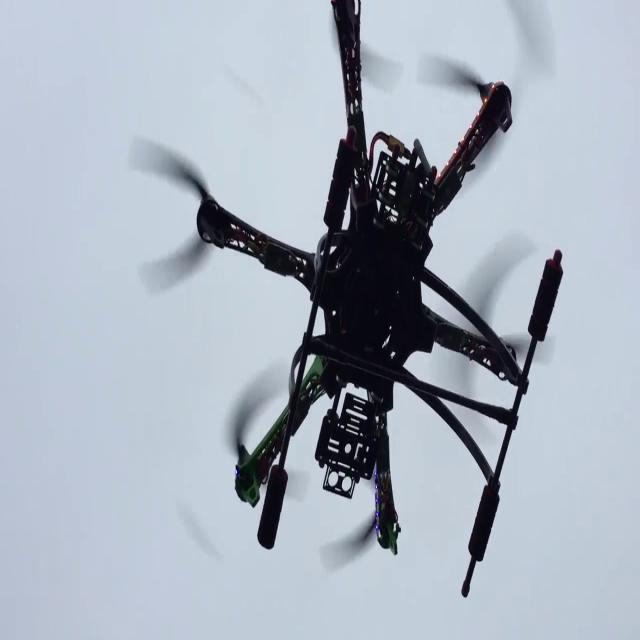drone: (90, 0, 602, 591)
